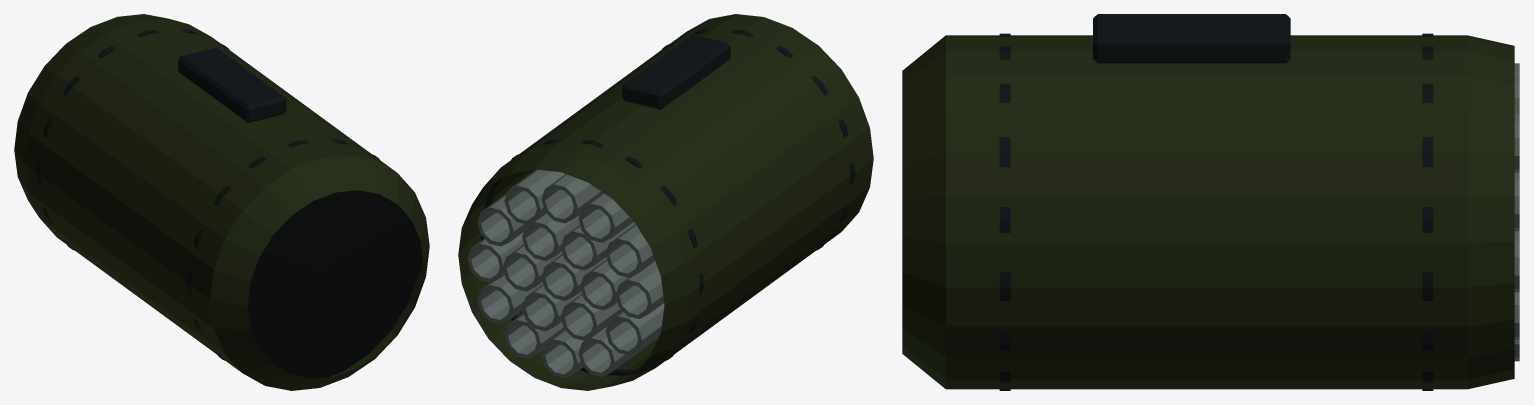
The model's file is Rocket70Nineteen__Empty.obj.
The picture shows the model from 3 angles, left to right: view 1: azimuth 30°, elevation 25°; view 2: azimuth 150°, elevation 25°; view 3: azimuth 270°, elevation 25°; orthographic projection. The views are drawn at different scales.
Visible parts, largest first — view 1: Pod_aerodynamic_outer_shell, Rear_bulkhead, Mount_lug, Identification_band, Identification_band.001; view 2: Pod_aerodynamic_outer_shell, Mount_lug, Tube_11, Tube_14, Tube_15, Tube_10, Tube_12, Tube_13, Tube_19, Tube_03, Tube_06, Tube_16 (+11 smaller); view 3: Pod_aerodynamic_outer_shell, Mount_lug, Identification_band, Identification_band.001.
Boxes of the visible parts, bbox=[...] form: Pod_aerodynamic_outer_shell: bbox=[14, 14, 429, 390]; Rear_bulkhead: bbox=[247, 190, 421, 378]; Mount_lug: bbox=[178, 47, 286, 122]; Identification_band: bbox=[186, 139, 379, 360]; Identification_band.001: bbox=[36, 29, 229, 250]; Pod_aerodynamic_outer_shell: bbox=[458, 14, 873, 390]; Mount_lug: bbox=[622, 34, 730, 109]; Tube_11: bbox=[541, 174, 602, 223]; Tube_14: bbox=[616, 261, 663, 318]; Tube_15: bbox=[605, 303, 664, 355]; Tube_10: bbox=[504, 169, 564, 224]; Tube_12: bbox=[578, 193, 633, 242]; Tube_13: bbox=[605, 224, 654, 277]; Tube_19: bbox=[477, 275, 543, 323]; Tube_03: bbox=[522, 213, 579, 260]; Tube_06: bbox=[561, 293, 622, 340]; Tube_16: bbox=[578, 327, 659, 376]; Pod_aerodynamic_outer_shell: bbox=[902, 35, 1514, 389]; Mount_lug: bbox=[1093, 14, 1290, 63]; Identification_band: bbox=[999, 33, 1010, 390]; Identification_band.001: bbox=[1422, 33, 1433, 390].
Size of the model in its own units: 0.9054 by 0.9727 by 1.56.
